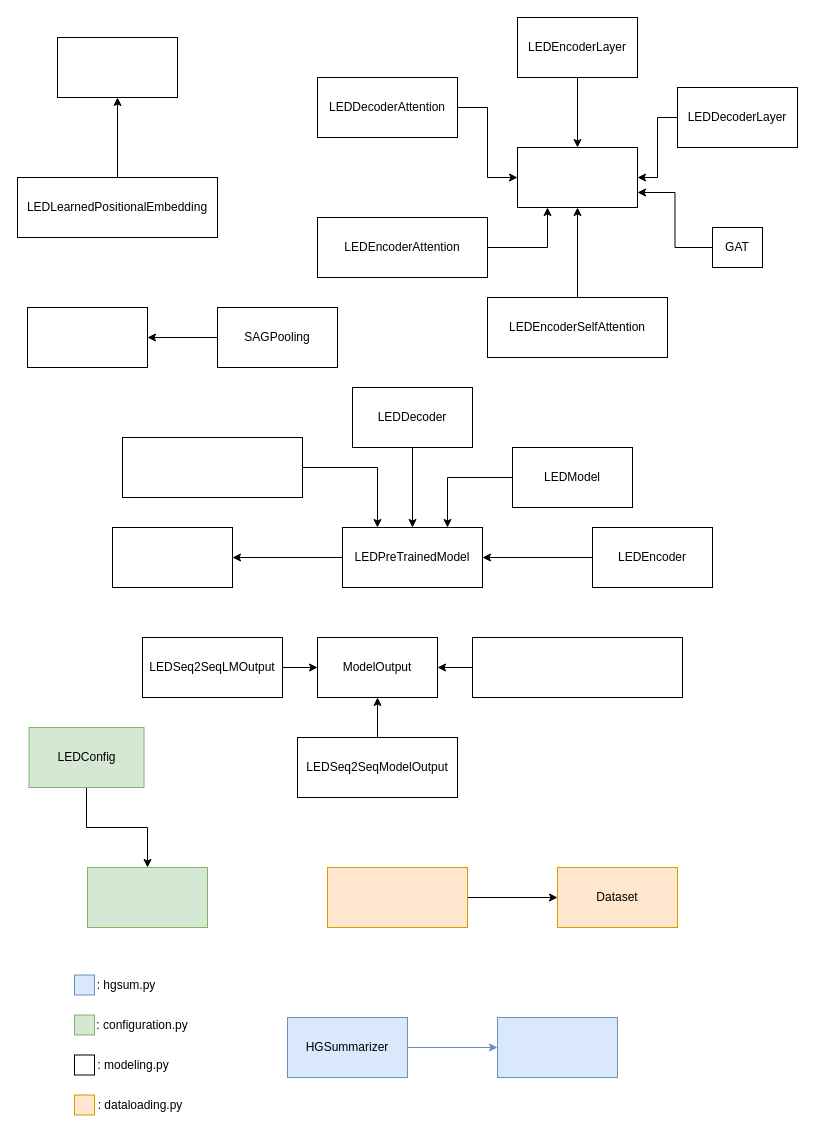
Some shapes in this 815 by 1133 pixel diagram are drawn without their labels. The shapes that lost their labels are listed below. From the top down, each one's centre as x and y in pixels, then its label:
point 117,67: nn.Embedding
point 577,177: nn.Module
point 87,337: torch.nn.Module
point 212,467: LEDForConditionalGeneration
point 172,557: PreTrainedModel
point 577,667: LEDEncoderBaseModelOutput
point 147,897: PretrainedConfig
point 397,897: SummarizationDataset
point 557,1047: pl.LightningModule
